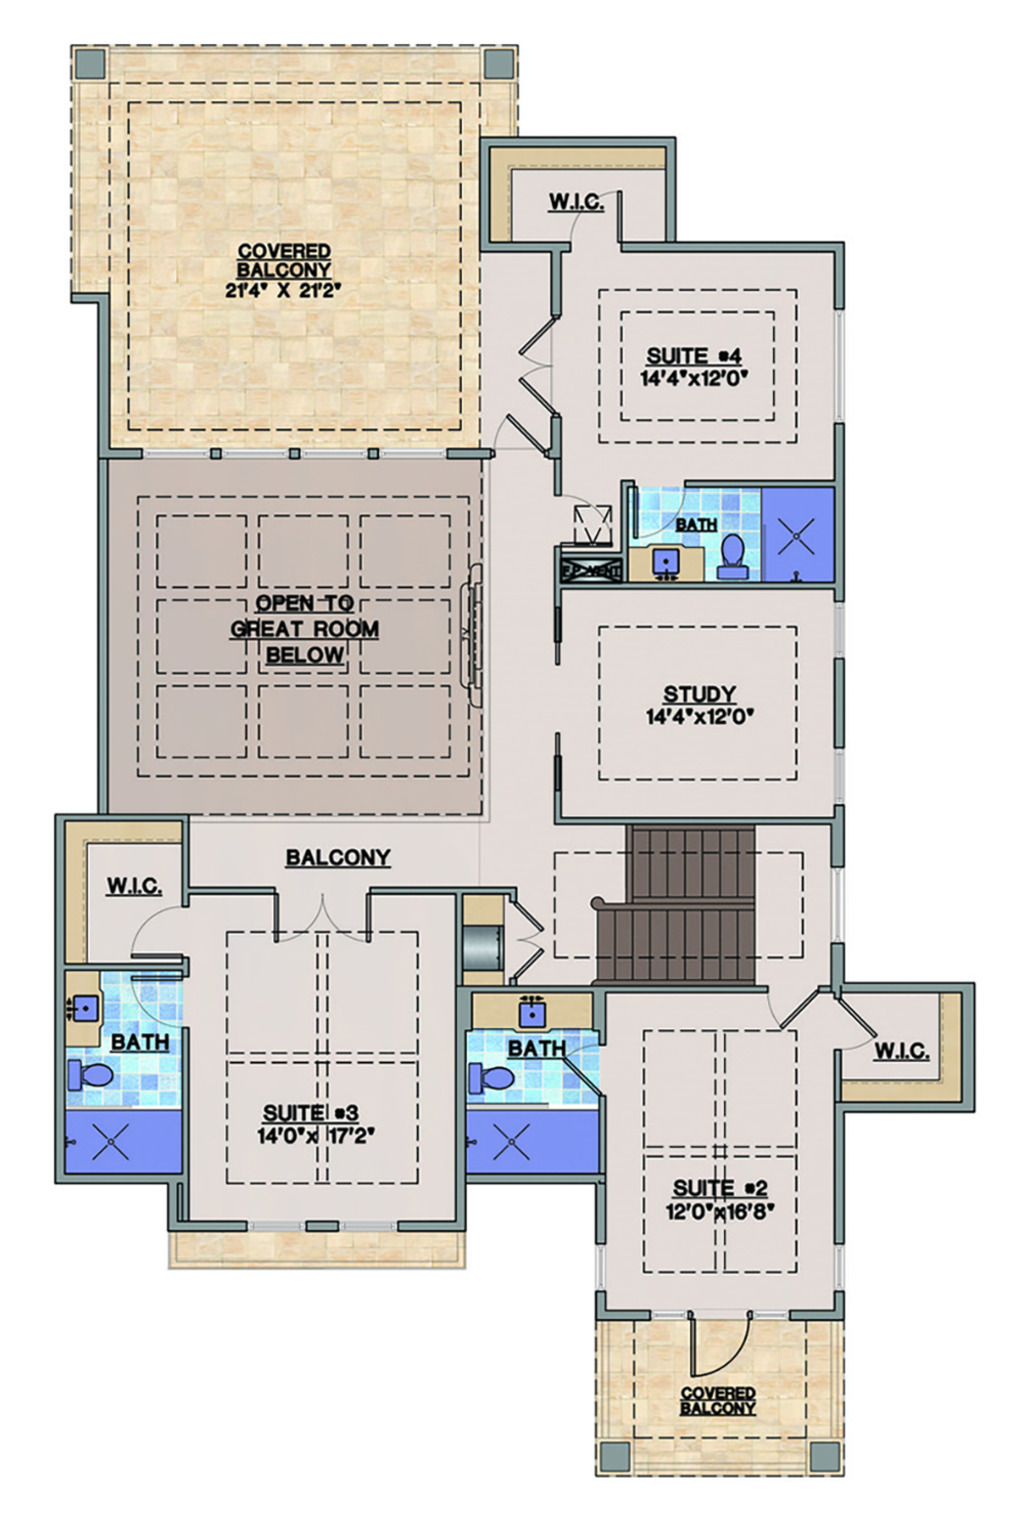door: (270, 887, 377, 945), (675, 1312, 765, 1380), (517, 308, 567, 414), (504, 896, 554, 980), (126, 906, 193, 957)
large_sink: (59, 1049, 122, 1101), (701, 529, 750, 585), (465, 1054, 518, 1106)
stairs: (565, 818, 785, 996)
windows: (826, 299, 857, 436), (824, 855, 857, 952)
